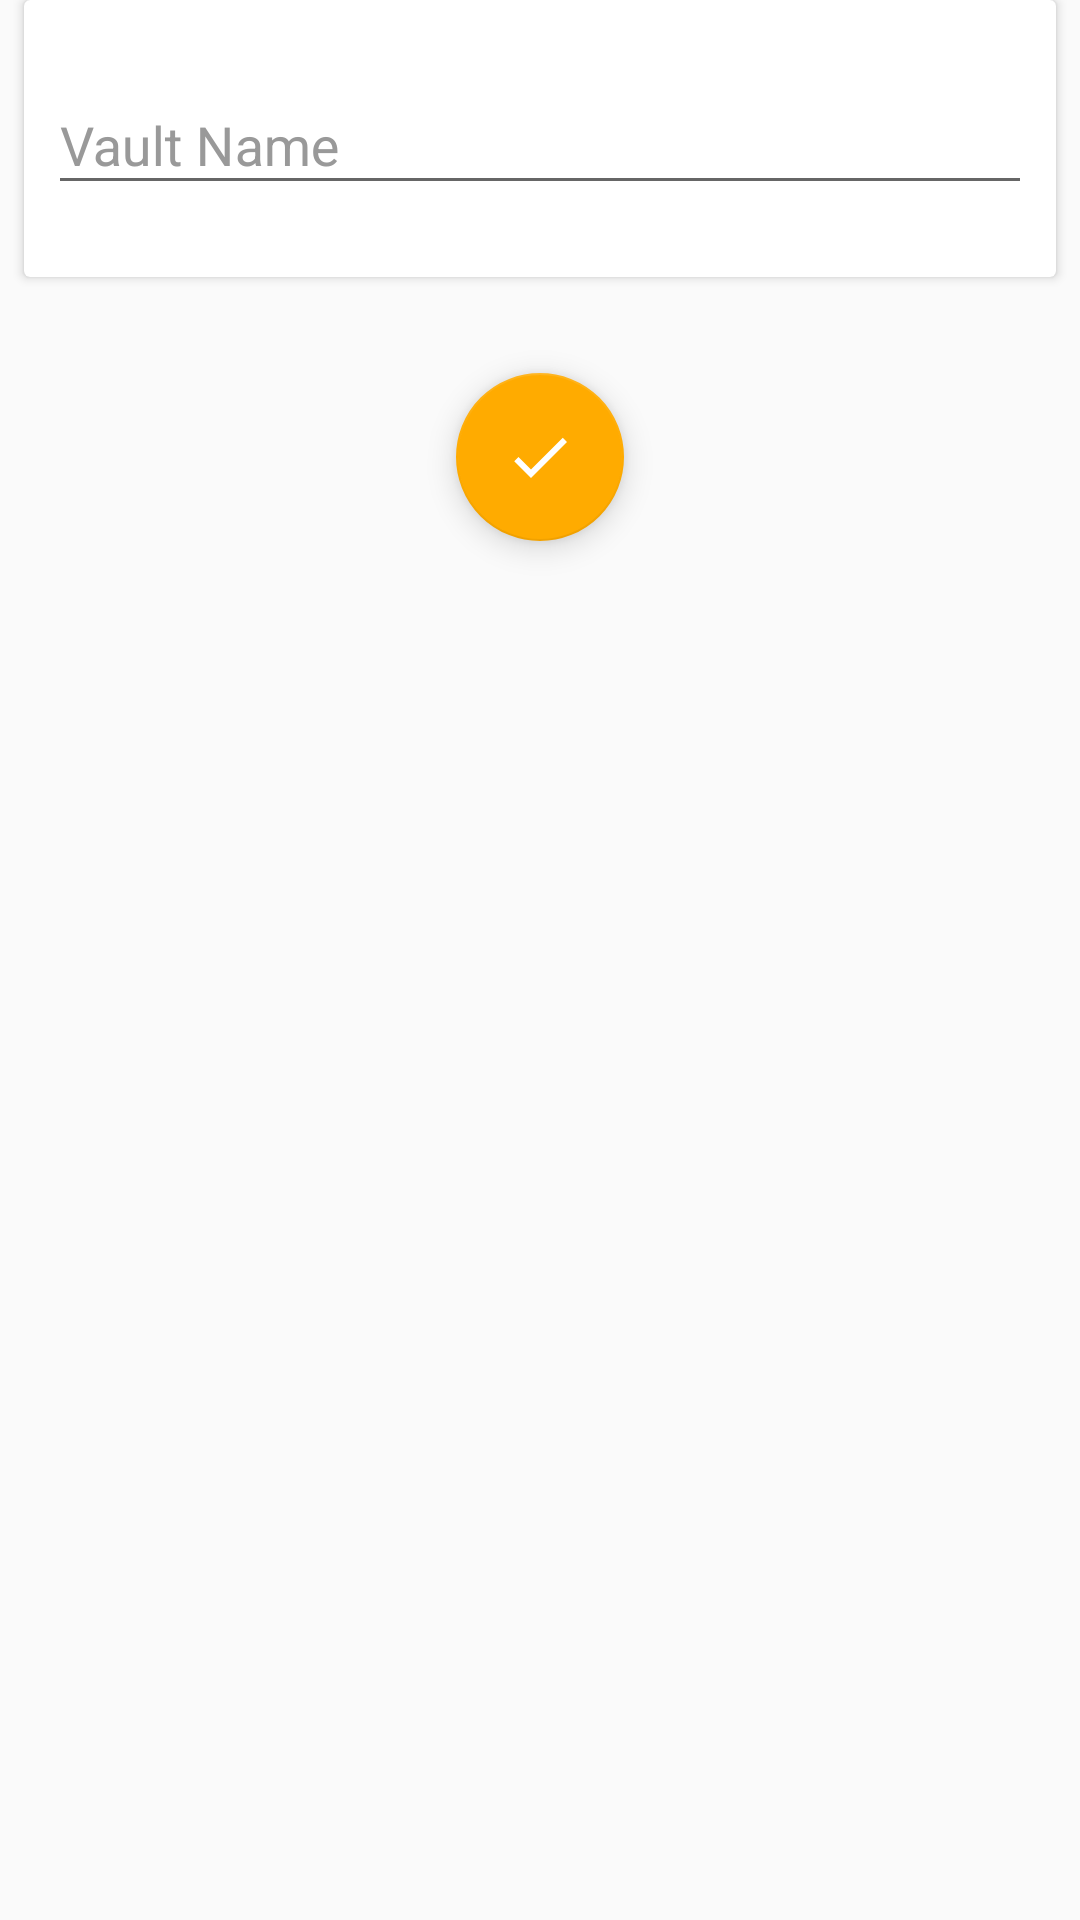

Locate icon controls on the screen. Image size 1080×1920, boxes as (x1, y1, x2, y2).
done: (456, 373, 624, 541)
